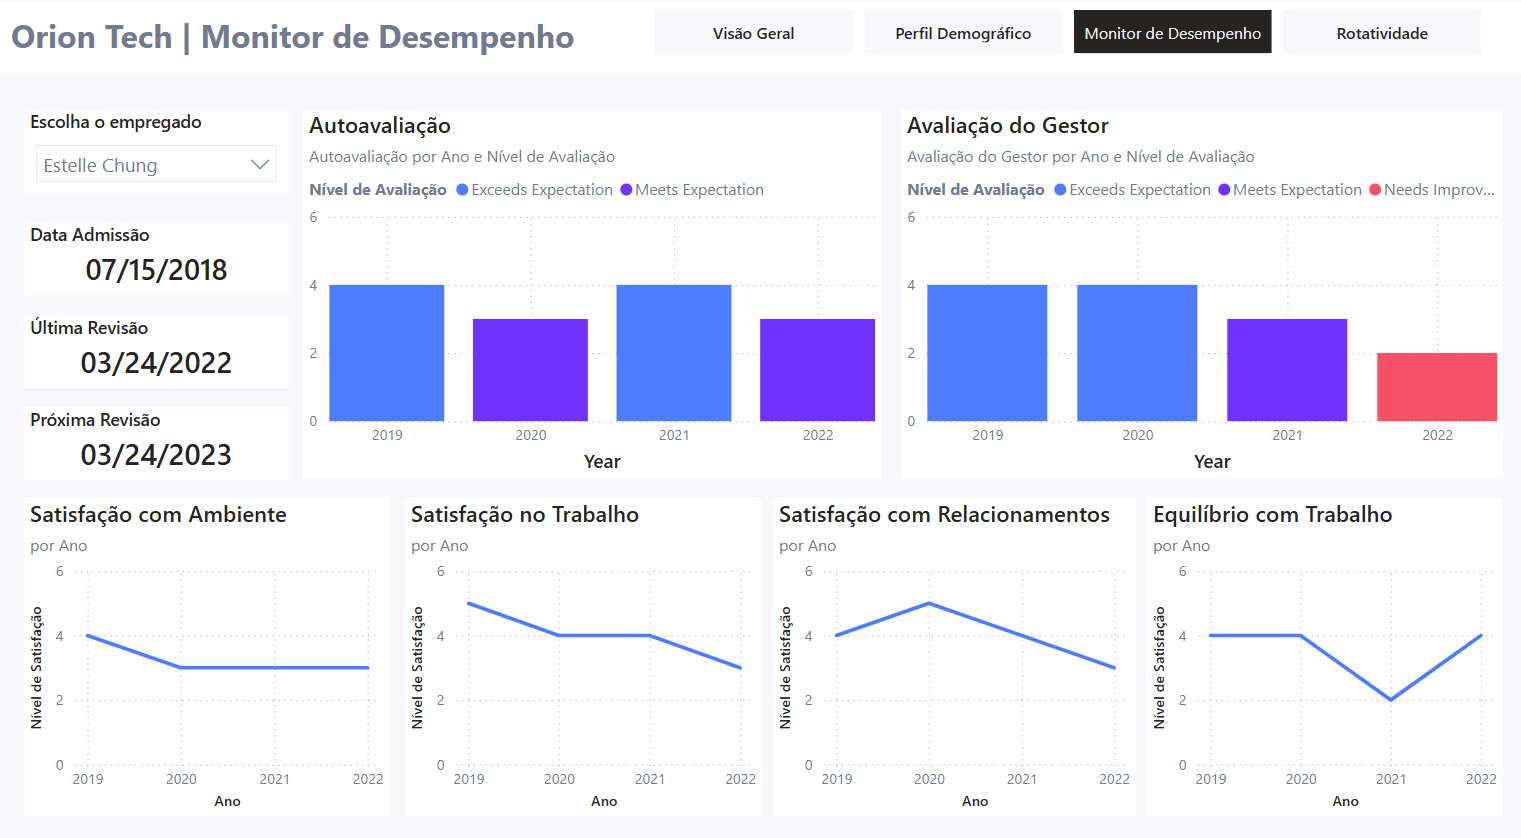

Layout of this report page (visuals, bound fields, positions):
{"tool":"powerbi","page":{"name":"Monitor de Desempenho","canvas":[1280,720],"ordinal":2},"visuals":[{"type":"slicer","title":"Escolha o empregado","fields":{"Values":["DimEmployee.FullName"]},"box":[24.2,93.9,221.2,70.7],"z":0},{"type":"card","title":"Data Admissão","fields":{"Values":["Min(DimEmployee.HireDate)"]},"box":[24.2,187.9,221.2,60.6],"z":1000},{"type":"card","title":"Última Revisão","fields":{"Values":["_Measures.LastReviewDate"]},"box":[24.2,265.7,221.2,60.6],"z":2000},{"type":"card","title":"Próxima Revisão","fields":{"Values":["_Measures.NextReviewDate"]},"box":[24.2,342.4,221.2,60.6],"z":3000},{"type":"lineChart","title":"Satisfação com Ambiente","fields":{"Y":["_Measures.EnvironmentSatisfaction"],"Category":["DimDate.Date.Variation.Date Hierarchy.Year"]},"box":[24.2,418.2,305.1,265.7],"z":4000},{"type":"lineChart","title":"Satisfação no Trabalho","fields":{"Category":["DimDate.Date.Variation.Date Hierarchy.Year"],"Y":["_Measures.JobSatisfaction"]},"box":[342.4,418.2,298,265.7],"z":5000},{"type":"lineChart","title":"Equilíbrio com Trabalho","fields":{"Y":["_Measures.WorkLifeBalance"],"Category":["DimDate.Date.Variation.Date Hierarchy.Year"]},"box":[962.6,418.2,297,265.7],"z":6000},{"type":"lineChart","title":"Satisfação com Relacionamentos","fields":{"Y":["_Measures.RelationshipSatisfaction"],"Category":["DimDate.Date.Variation.Date Hierarchy.Year"]},"box":[649.5,418.2,303,265.7],"z":7000},{"type":"columnChart","title":"Autoavaliação","fields":{"Category":["DimDate.Date.Variation.Date Hierarchy.Year"],"Y":["_Measures.SelfRating"],"Series":["DimRatingLevel.RatingLevel"]},"box":[257.6,93.9,482.8,309.1],"z":8000},{"type":"columnChart","title":"Avaliação do Gestor","fields":{"Category":["DimDate.Date.Variation.Date Hierarchy.Year"],"Y":["_Measures.ManagerRating"],"Series":["DimRatingLevel.RatingLevel"]},"box":[756.6,93.9,503,309.1],"z":9000},{"type":"shape","box":[0,0,1279.8,64.6],"z":10000},{"type":"pageNavigator","box":[551.5,11.1,690.9,36.4],"z":11000},{"type":"textbox","box":[97,5.1,258.6,51.5],"z":12000},{"type":"textbox","box":[8,8,496,48],"z":13000}]}

Visuals, with their boxes in screenshot pixels (x1, y1, x2, y2), scaled from the page's 1280x720 canvas onto the 1521x838 screenshot:
"Escolha o empregado" slicer: bbox=[29, 109, 292, 192]
"Data Admissão" card: bbox=[29, 219, 292, 289]
"Última Revisão" card: bbox=[29, 309, 292, 380]
"Próxima Revisão" card: bbox=[29, 399, 292, 469]
"Satisfação com Ambiente" lineChart: bbox=[29, 487, 391, 796]
"Satisfação no Trabalho" lineChart: bbox=[407, 487, 761, 796]
"Equilíbrio com Trabalho" lineChart: bbox=[1144, 487, 1497, 796]
"Satisfação com Relacionamentos" lineChart: bbox=[772, 487, 1132, 796]
"Autoavaliação" columnChart: bbox=[306, 109, 880, 469]
"Avaliação do Gestor" columnChart: bbox=[899, 109, 1497, 469]
shape: bbox=[0, 0, 1520, 75]
pageNavigator: bbox=[655, 13, 1476, 55]
textbox: bbox=[115, 6, 423, 66]
textbox: bbox=[10, 9, 599, 65]
